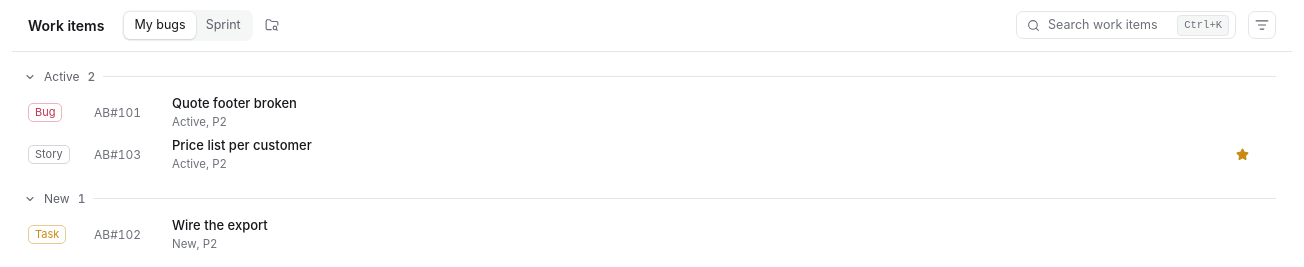
Test: WorkItemsSection › search filters the rows through the store and names the ⌘K shortcut
Expected: the text with class "bd-kbd" shows "K", [1177,14,1229,36]
Type "export" into the field named "Filter work items" at (1109, 25), box [1048,16,1169,35]
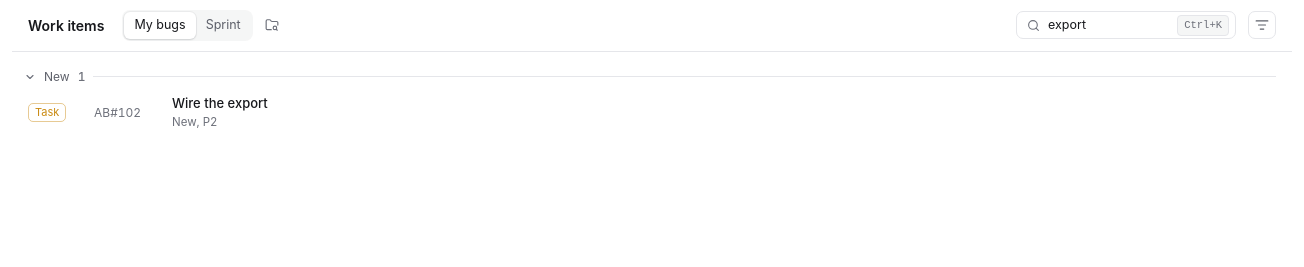
Expected: the text "Wire the export" is shown, [172,95,268,111]
Expected: the number of buttons with class "bd-wi-wb-row" is 1, [28,95,268,129]
